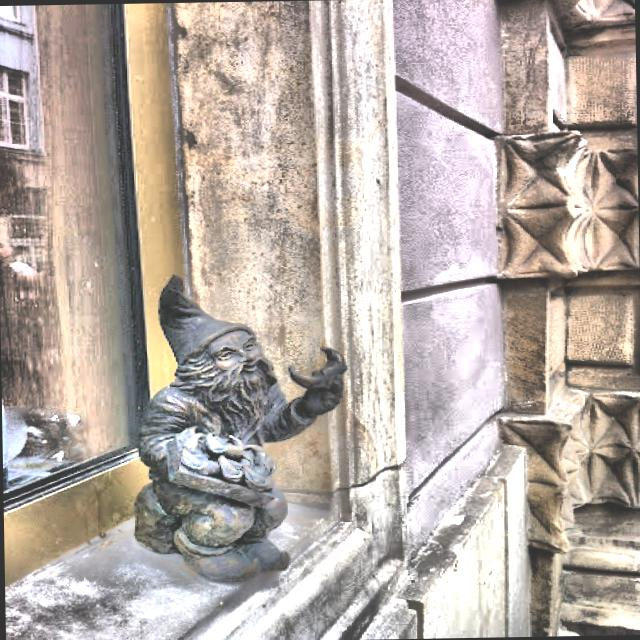Rogalik: (133, 275, 347, 585)
